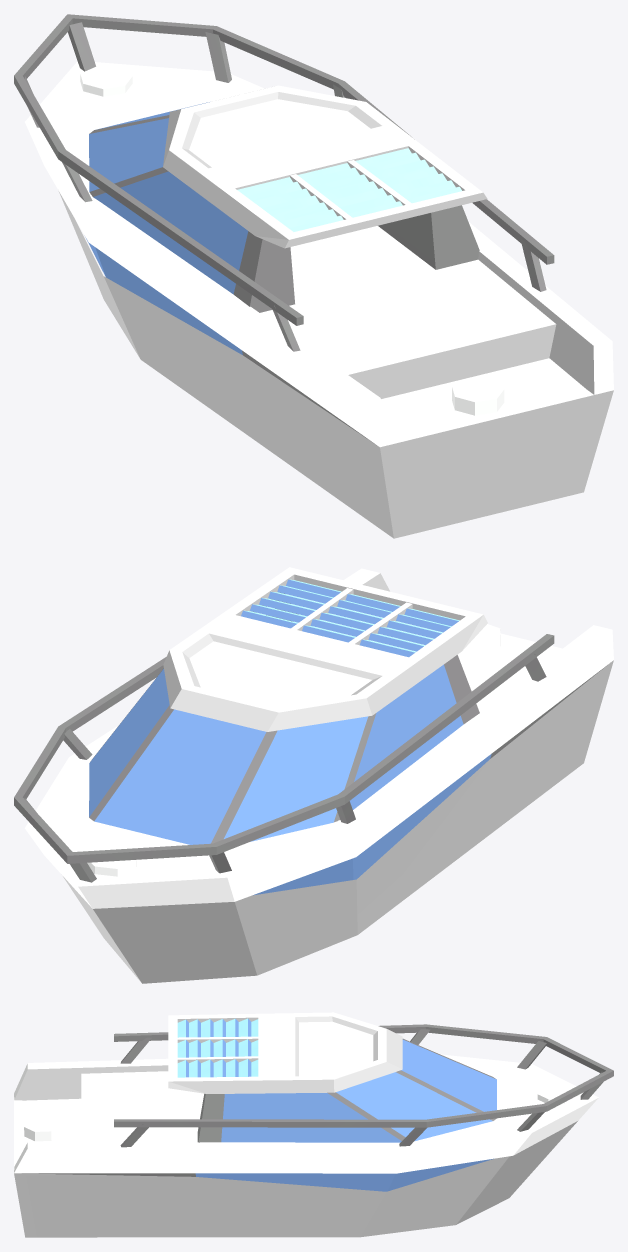
Rendered from transport_water.002.glb.
3 renders of one model, top to bottom at view 1: azimuth 30°, elevation 25°; view 2: azimuth 150°, elevation 25°; view 3: azimuth 270°, elevation 25°, orthographic. The views are drawn at different scales.
Parts seen in each view (by area): view 1: transport_water.002(Clone); view 2: transport_water.002(Clone); view 3: transport_water.002(Clone).
Part boxes in pixels (box(x1,y1,x2,y2)): transport_water.002(Clone): box(14, 14, 613, 538); transport_water.002(Clone): box(14, 567, 613, 983); transport_water.002(Clone): box(14, 1012, 613, 1237).
Size of the model in its own units: 4 by 3.05 by 10.38.
Materials: 1 (1 with a texture image).
